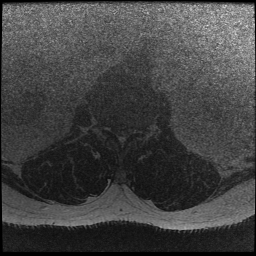CCS_normal: (118, 119, 125, 155)
LFS_severe_stenosis: (132, 118, 140, 140)
LLS_normal: (125, 119, 132, 145)
RFS_stenosis: (103, 116, 110, 139)
RLS_stenosis: (111, 118, 118, 144)
